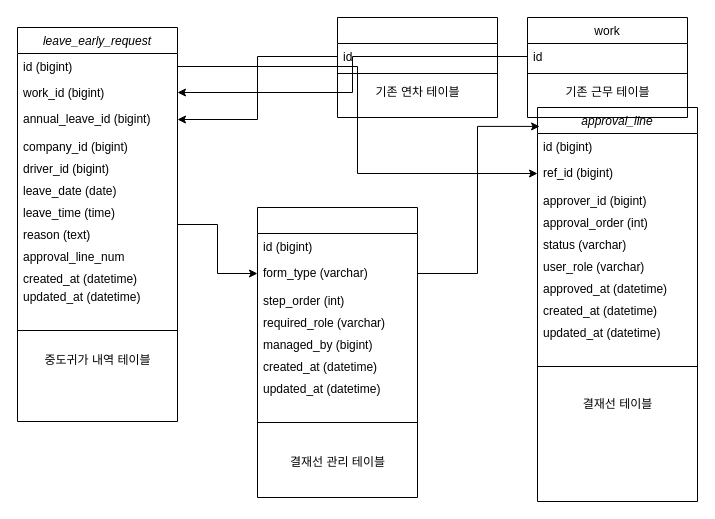
Image size: 715x519. Some labels were removed from this diagram. Each missing label, with the box of its shape:
annual_leave: (336, 16, 498, 118)
approval_step_template: (256, 206, 418, 498)
